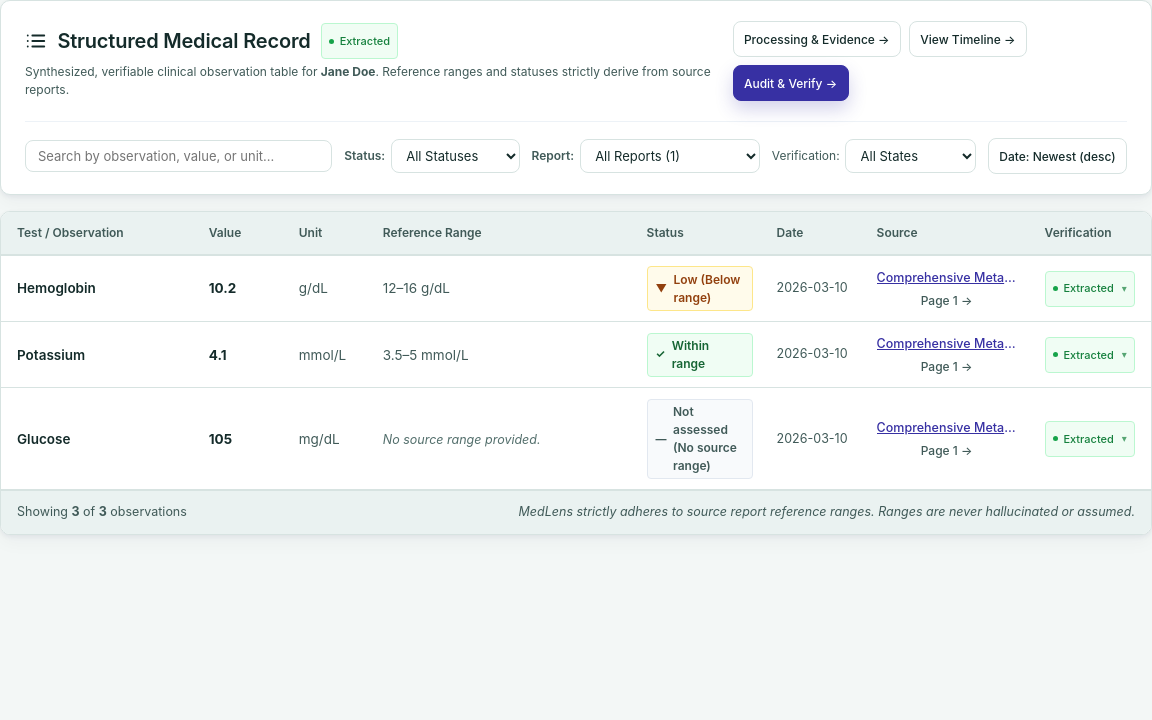
Test case: StructuredRecordPage › filters rows based on search input
Type "potassium" into the field named "Search observations" at [179, 156], box top-left (25, 140), bottom-right (332, 172)
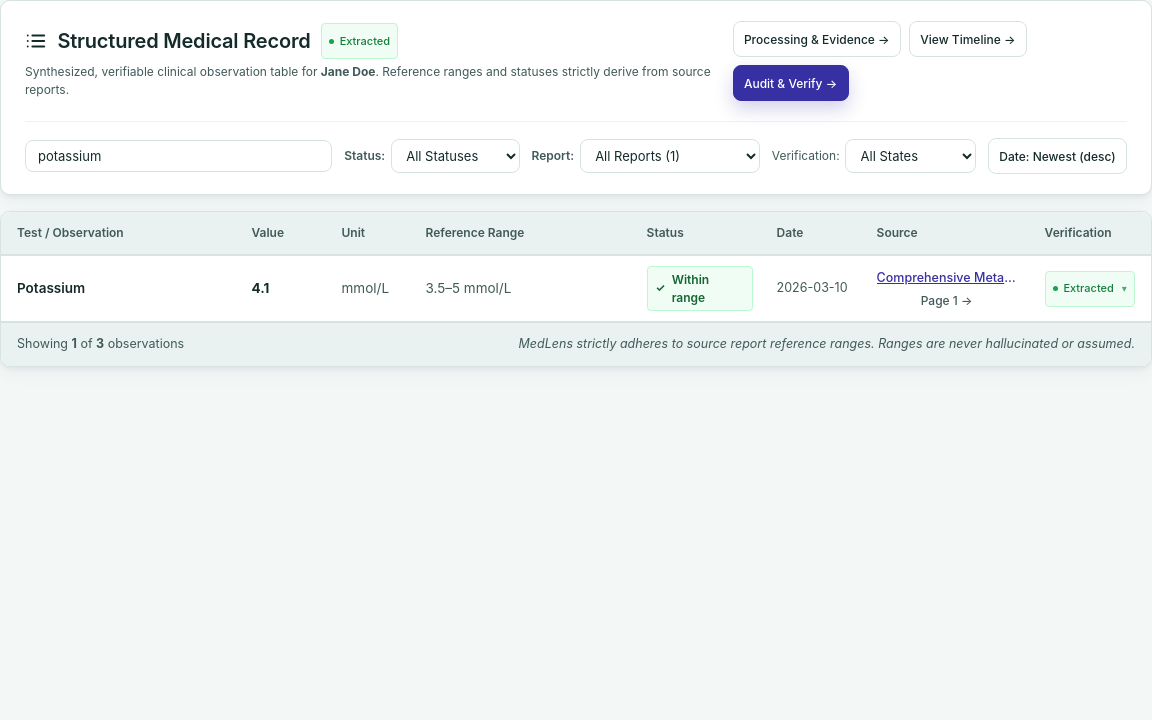
Expected: the text "Potassium" is shown, top-left (1, 256), bottom-right (240, 322)
Expected: the text "Hemoglobin" is gone
